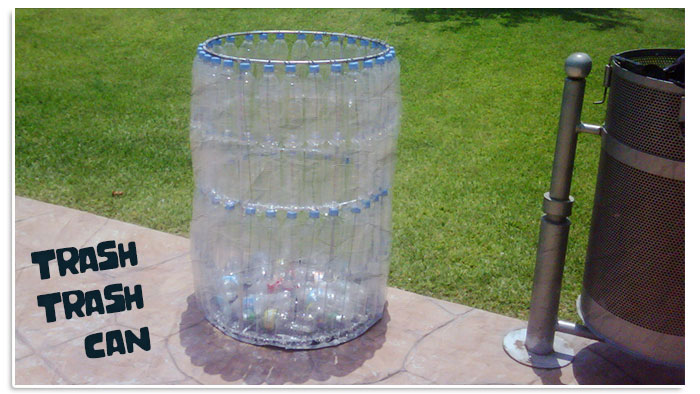plastic_bottle: (158, 21, 444, 373)
